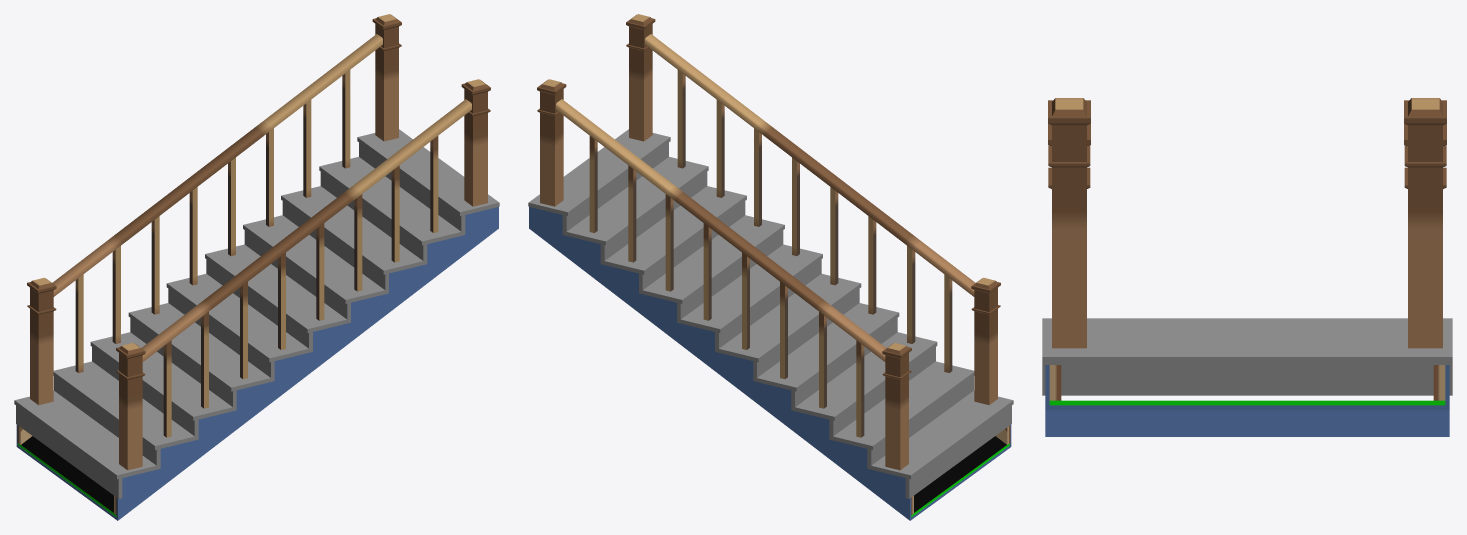
File: DBK_Stairs_Wood_Short.FBX
The picture shows the model from 3 angles, left to right: view 1: azimuth 30°, elevation 25°; view 2: azimuth 150°, elevation 25°; view 3: azimuth 270°, elevation 25°; orthographic projection. The views are drawn at different scales.
Parts seen in each view (by area): view 1: DBK_Stairs_Wood_Short, DBK_Stairs_Wood_Short_Rail_L, DBK_Stairs_Wood_Short_Rail_R, DBK_Stairs_Wood_Short_Drywall, DBK_Stairs_Wood_Short_Plywood; view 2: DBK_Stairs_Wood_Short, DBK_Stairs_Wood_Short_Rail_R, DBK_Stairs_Wood_Short_Rail_L, DBK_Stairs_Wood_Short_Drywall, DBK_Stairs_Wood_Short_Plywood; view 3: DBK_Stairs_Wood_Short, DBK_Stairs_Wood_Short_Drywall, DBK_Stairs_Wood_Short_Rail_L, DBK_Stairs_Wood_Short_Rail_R, DBK_Stairs_Wood_Short_Plywood, DBK_Stairs_Wood_Short_Support.
Boxes of the visible parts, x1,y1,x2,y2 form: DBK_Stairs_Wood_Short: (14, 129, 499, 498); DBK_Stairs_Wood_Short_Rail_L: (27, 14, 401, 405); DBK_Stairs_Wood_Short_Rail_R: (116, 79, 490, 470); DBK_Stairs_Wood_Short_Drywall: (16, 207, 498, 520); DBK_Stairs_Wood_Short_Plywood: (18, 436, 116, 517); DBK_Stairs_Wood_Short: (528, 129, 1013, 498); DBK_Stairs_Wood_Short_Rail_R: (626, 14, 1000, 405); DBK_Stairs_Wood_Short_Rail_L: (537, 79, 911, 470); DBK_Stairs_Wood_Short_Drywall: (529, 207, 1011, 520); DBK_Stairs_Wood_Short_Plywood: (911, 436, 1009, 517); DBK_Stairs_Wood_Short: (1042, 318, 1452, 395); DBK_Stairs_Wood_Short_Drywall: (1045, 365, 1449, 436); DBK_Stairs_Wood_Short_Rail_L: (1404, 98, 1446, 348); DBK_Stairs_Wood_Short_Rail_R: (1048, 98, 1090, 348); DBK_Stairs_Wood_Short_Plywood: (1049, 400, 1445, 405); DBK_Stairs_Wood_Short_Support: (1049, 365, 1445, 400).
Bounding box in the file's own units: 301 × 259 × 140.
4 materials, 1 textured.
